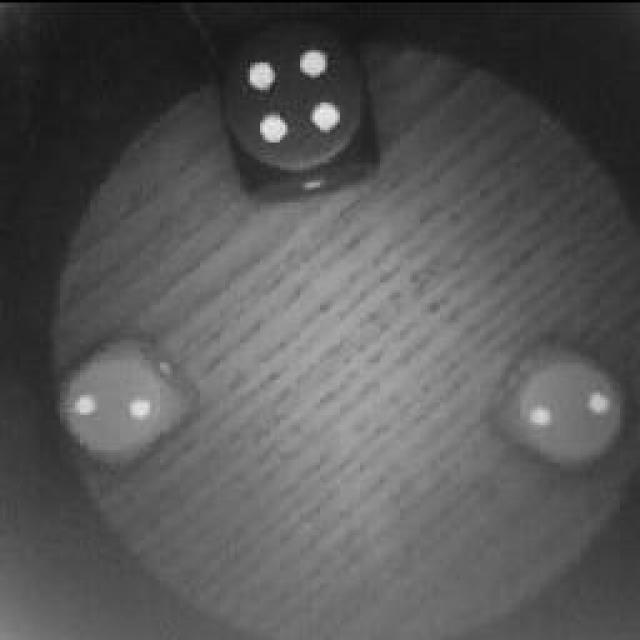dice_2: (55, 338, 190, 468), (498, 342, 630, 470)
dice_4: (218, 25, 378, 195)
